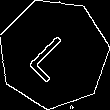L_NE: (25, 25, 83, 83)
